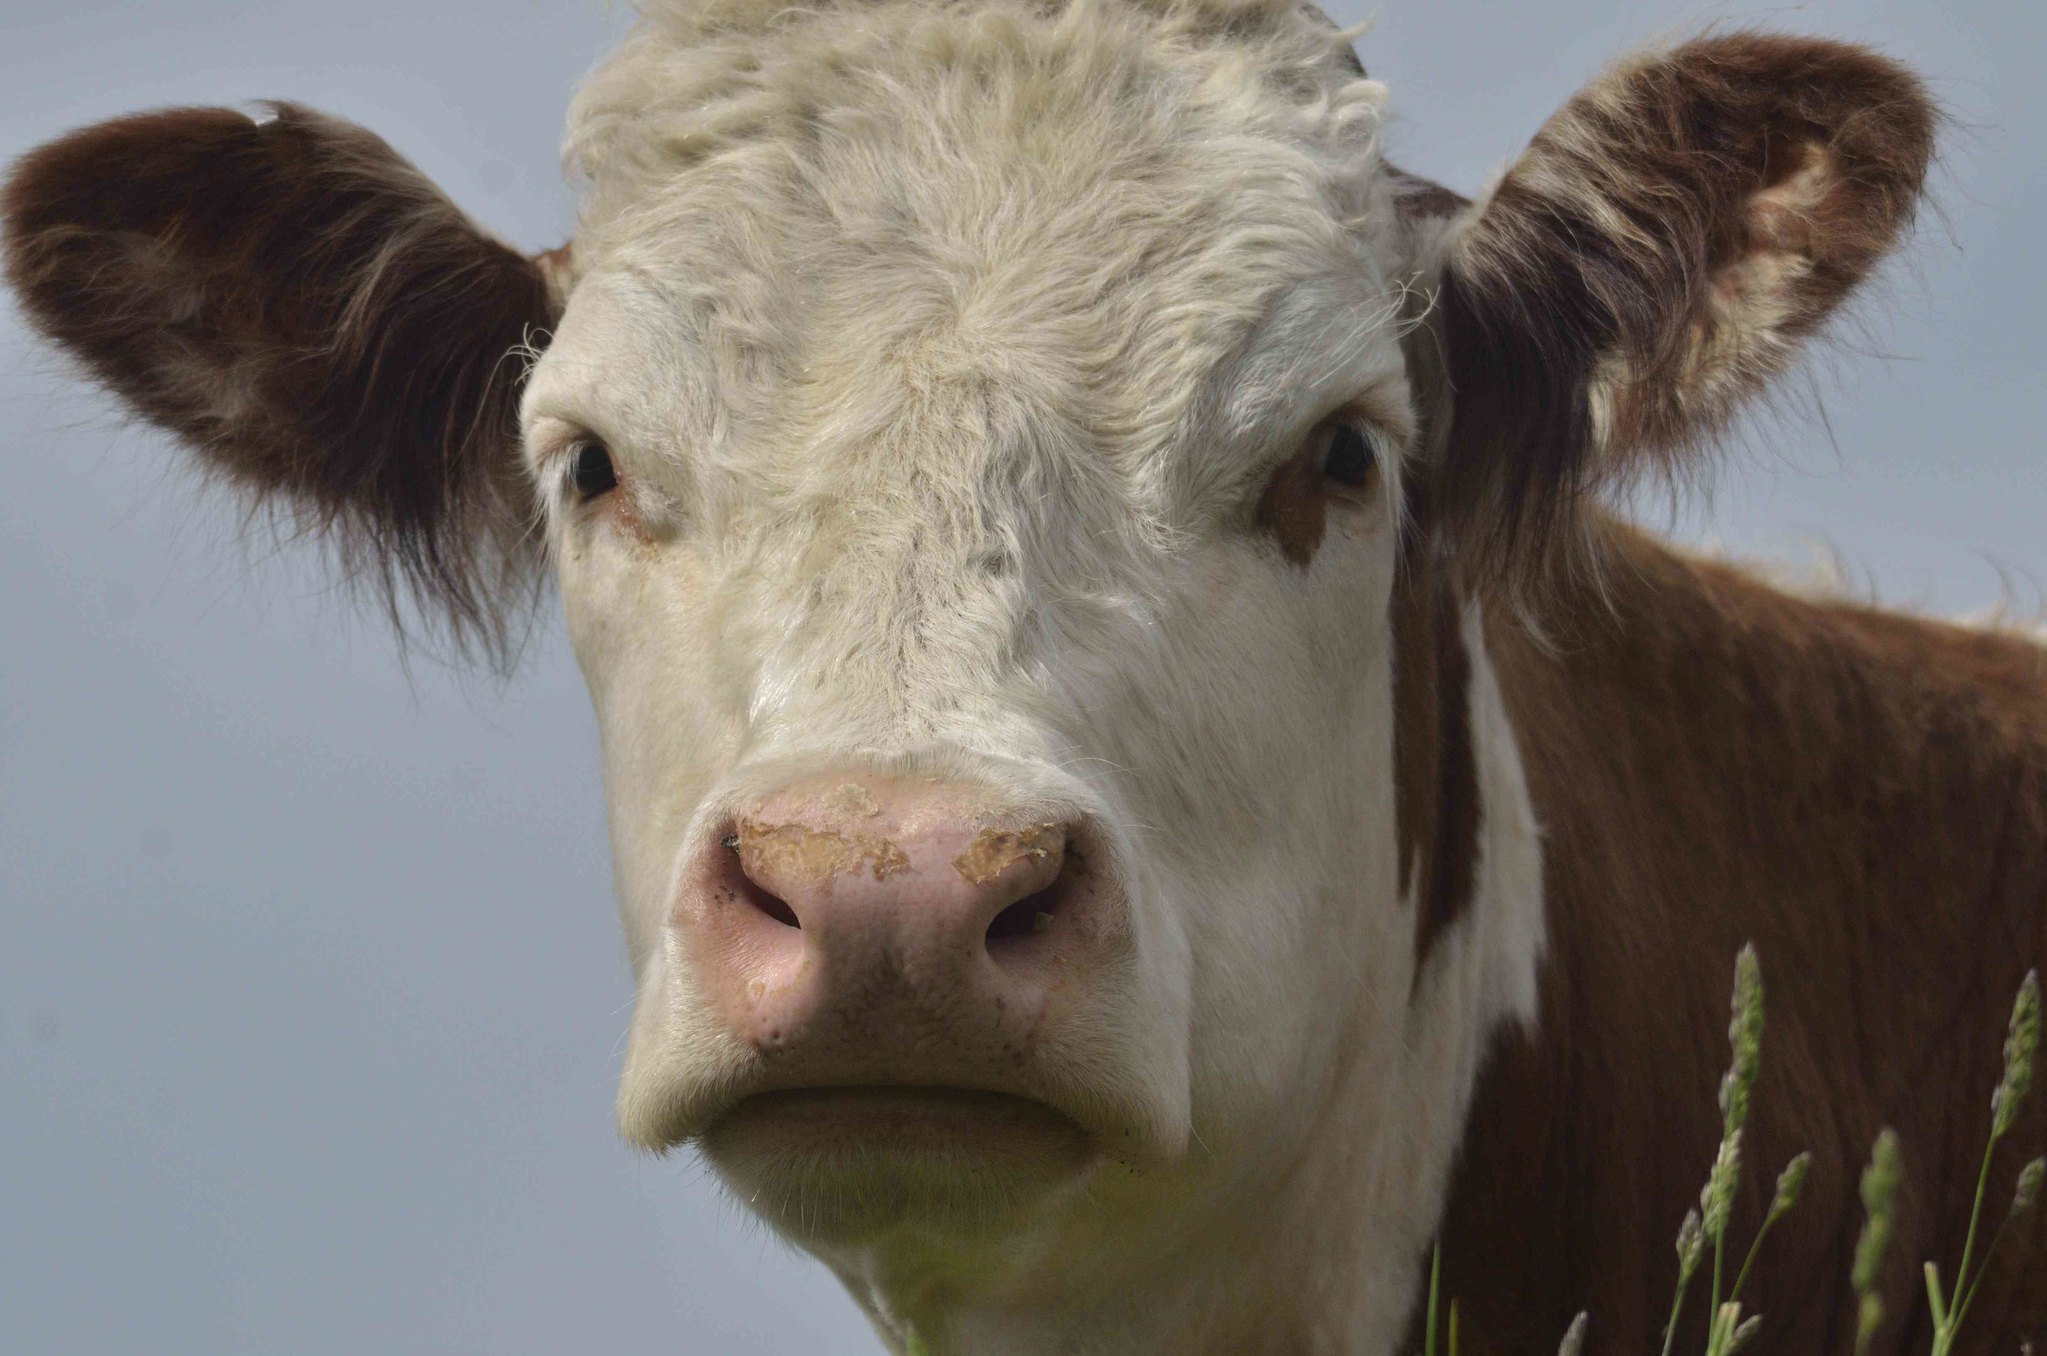cow: (14, 45, 2047, 1345)
